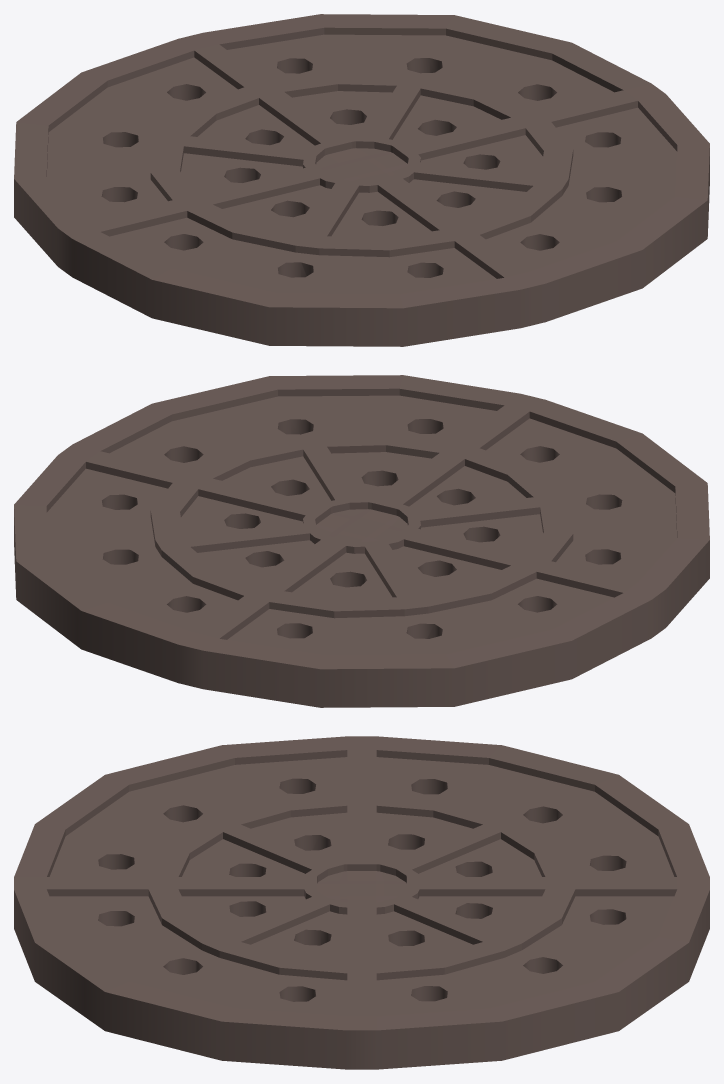
Rendered from item_Manhole.fbx.
3 renders of one model, top to bottom at view 1: azimuth 30°, elevation 25°; view 2: azimuth 150°, elevation 25°; view 3: azimuth 270°, elevation 25°, orthographic.
Parts seen in each view (by area): view 1: polySurface1; view 2: polySurface1; view 3: polySurface1.
Boxes of the visible parts, <box> form: polySurface1: <box>14,14,709,346</box>; polySurface1: <box>14,375,709,707</box>; polySurface1: <box>14,736,709,1069</box>.
Bounding box in the file's own units: 90.94 × 5.67 × 90.94.
